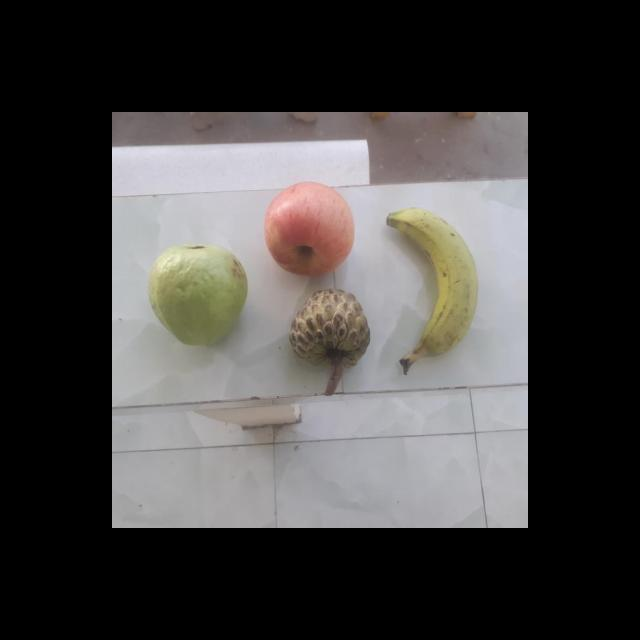Sakya fruit: (285, 288, 369, 376)
apple: (260, 182, 355, 276)
banana: (386, 208, 476, 366)
guava: (146, 244, 244, 346)
